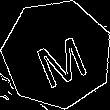M_N: (26, 23, 88, 86)
